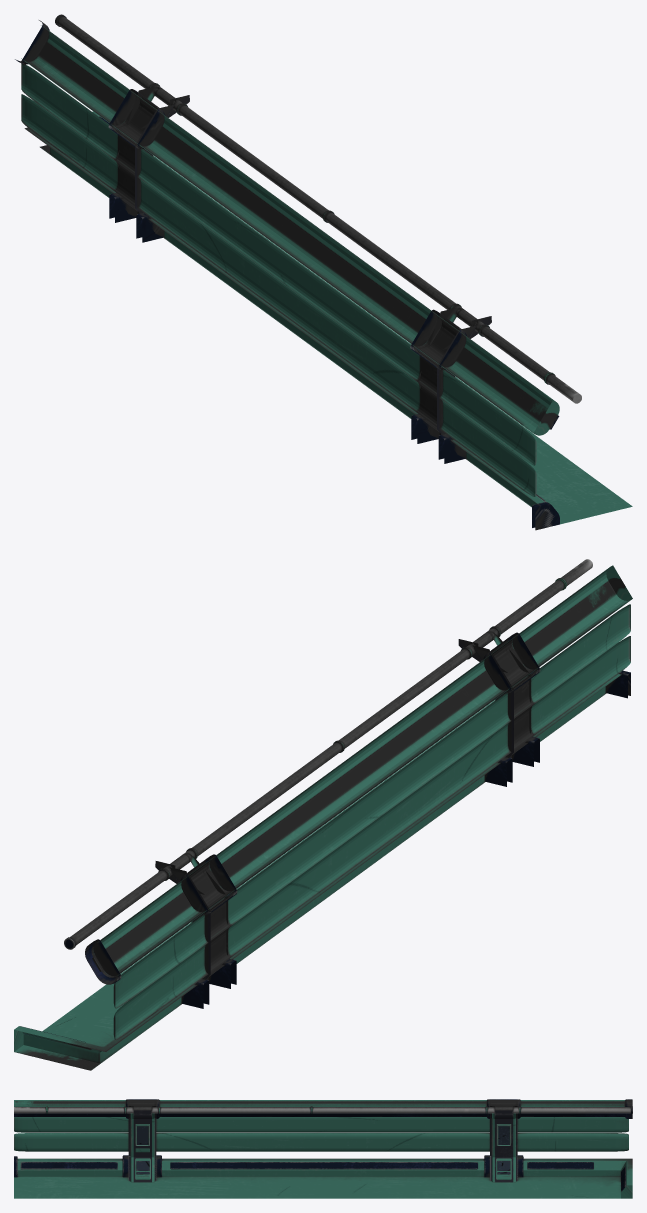
The model's file is 1 yuka.fbx.
3 views of the same model, one above another, from view 1: azimuth 30°, elevation 25°; view 2: azimuth 150°, elevation 25°; view 3: azimuth 270°, elevation 25° (orthographic). The views are drawn at different scales.
Visible parts, largest first — view 1: polySurface355, polySurface361, polySurface359, polySurface303; view 2: polySurface355, polySurface361, polySurface359, polySurface303; view 3: polySurface355, polySurface359, polySurface361, polySurface303, polySurface311.
Boxes of the visible parts, bbox=[...] form: polySurface355: bbox=[21, 25, 632, 524]; polySurface361: bbox=[57, 16, 581, 403]; polySurface359: bbox=[15, 14, 559, 530]; polySurface303: bbox=[135, 95, 491, 434]; polySurface355: bbox=[14, 565, 632, 1070]; polySurface361: bbox=[70, 559, 592, 945]; polySurface359: bbox=[20, 578, 630, 1049]; polySurface303: bbox=[155, 639, 513, 979]; polySurface355: bbox=[14, 1100, 632, 1198]; polySurface359: bbox=[14, 1099, 632, 1191]; polySurface361: bbox=[14, 1107, 630, 1113]; polySurface303: bbox=[128, 1106, 517, 1182]; polySurface311: bbox=[136, 1126, 510, 1174].
Bounding box in the file's own units: 14.62 × 17.62 × 128.
1 material, 1 textured.
